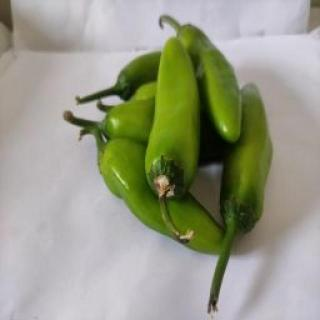Cabai Hijau: (199, 81, 275, 309), (143, 36, 202, 246)
